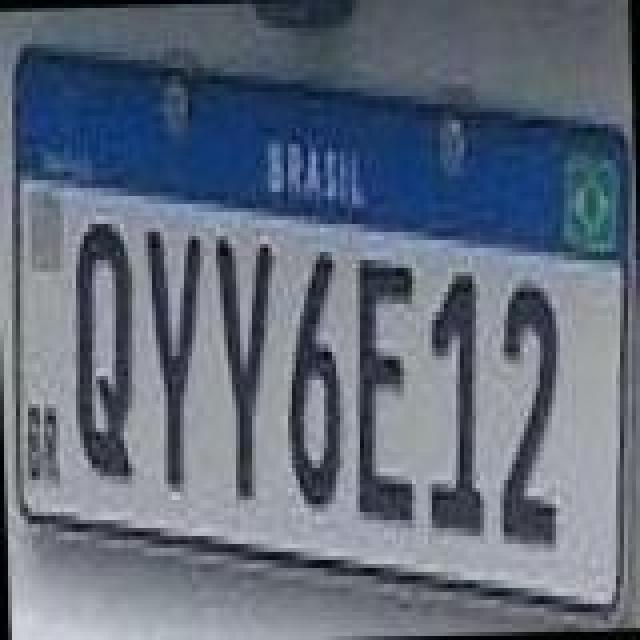1: (424, 268, 488, 540)
2: (490, 280, 566, 552)
6: (278, 248, 346, 512)
E: (346, 254, 422, 530)
Q: (68, 218, 140, 486)
Y: (212, 230, 284, 506), (142, 222, 210, 490)
